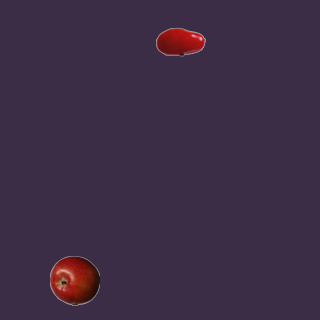Apple Braeburn: (49, 255, 99, 305)
Tomato 2: (155, 16, 205, 66)
